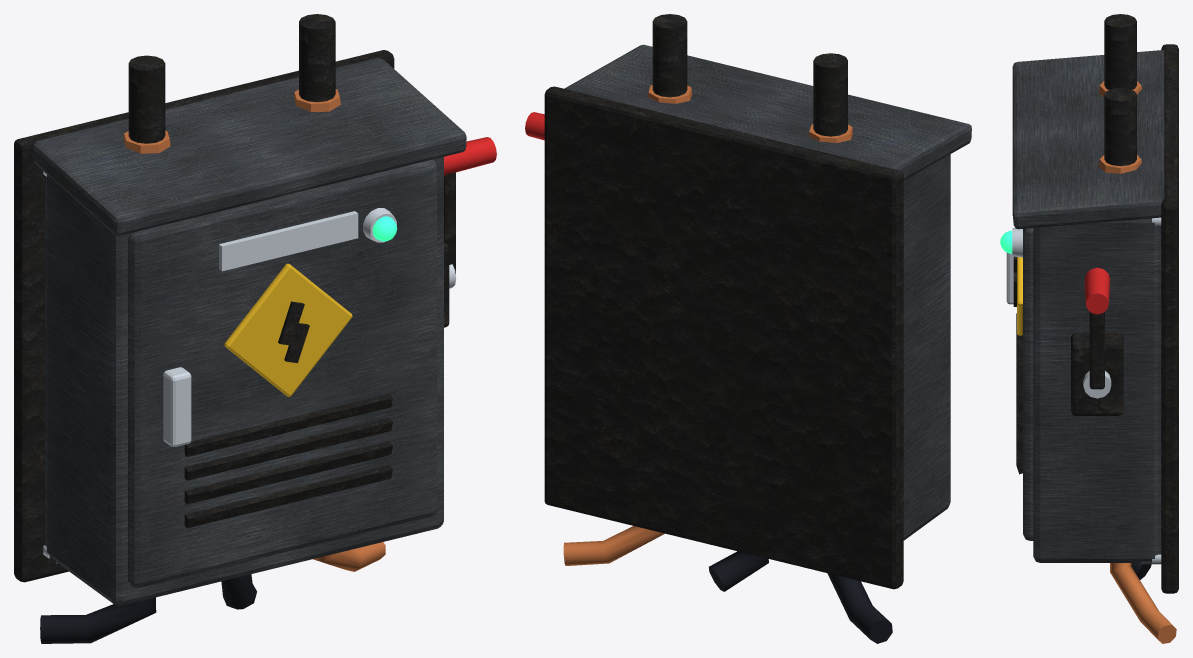
File: power_box.glb
The picture shows the model from 3 angles, left to right: view 1: azimuth 30°, elevation 25°; view 2: azimuth 150°, elevation 25°; view 3: azimuth 270°, elevation 25°; orthographic projection. The views are drawn at different scales.
Parts seen in each view (by area): view 1: Box_Door, Box_Body, Breaker_Lever, Status_LED; view 2: Box_Body; view 3: Box_Body, Breaker_Lever, Box_Door, Status_LED.
Boxes of the visible parts, x1,y1,x2,y2 form: Box_Door: (128,159,436,587); Box_Body: (14,14,466,643); Breaker_Lever: (444,137,496,327); Status_LED: (363,208,397,242); Box_Body: (544,14,971,643); Box_Body: (1012,14,1178,643); Breaker_Lever: (1071,267,1123,415); Box_Door: (1006,228,1033,540); Status_LED: (1000,228,1022,257).
Bounding box in the file's own units: 0.762 × 0.9751 × 0.307.
Materials: 10 (2 with a texture image).
